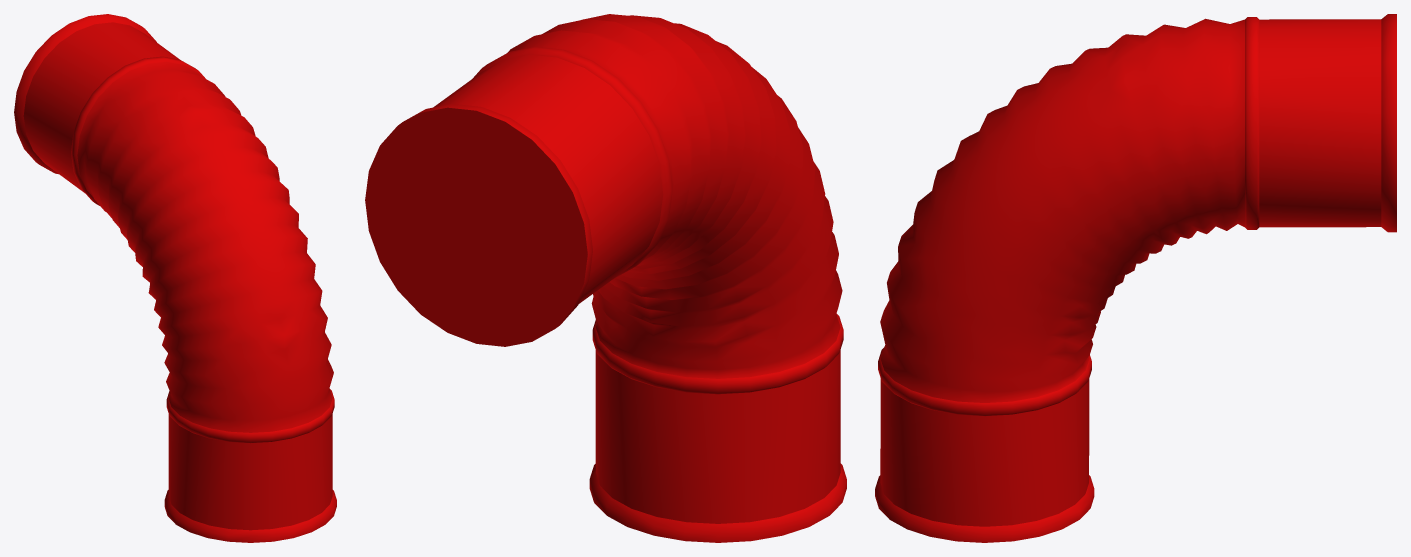
3 views of the same model, side by side, from view 1: azimuth 30°, elevation 25°; view 2: azimuth 150°, elevation 25°; view 3: azimuth 270°, elevation 25° (orthographic). The views are drawn at different scales.
Parts seen in each view (by area): view 1: Mesh; view 2: Mesh; view 3: Mesh.
Part boxes in pixels (box(x1,y1,x2,y2)): Mesh: box(14, 14, 336, 542); Mesh: box(365, 14, 846, 542); Mesh: box(875, 14, 1396, 542).
Size of the model in its own units: 0.4202 by 1 by 1.
